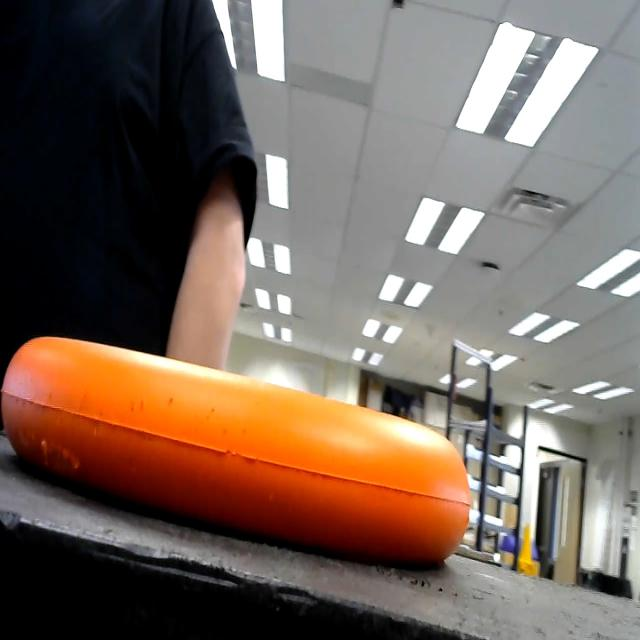note: (0, 306, 500, 606)
